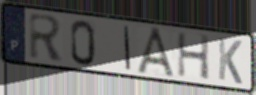0: (69, 19, 98, 68)
A: (135, 26, 179, 81)
H: (176, 30, 211, 82)
I: (123, 24, 132, 72)
K: (216, 35, 244, 86)
R: (28, 11, 66, 63)
